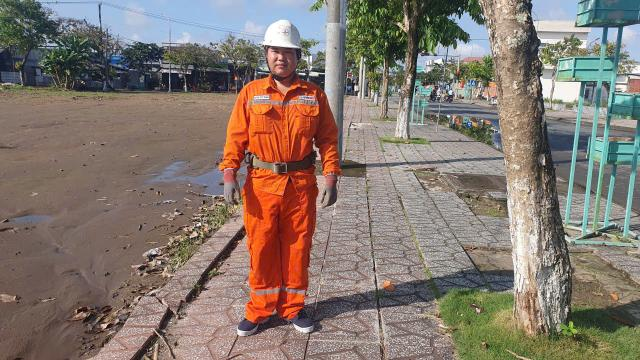gloves: (214, 170, 244, 212), (321, 174, 344, 212)
harness: (230, 148, 324, 174)
helmet: (246, 17, 310, 52)
shoes: (280, 302, 320, 338), (227, 314, 273, 336)
